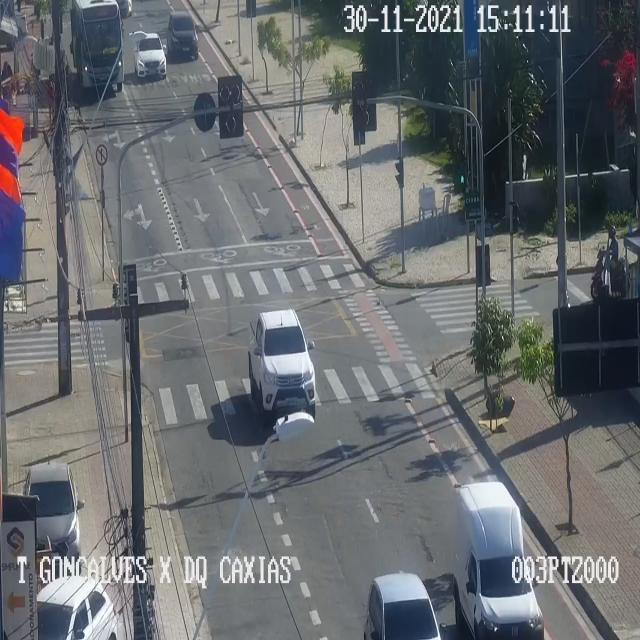Bus: (70, 1, 124, 91)
Car: (453, 481, 543, 639), (247, 307, 315, 417), (24, 464, 80, 573), (36, 575, 116, 639), (364, 573, 441, 639), (166, 12, 198, 58), (134, 32, 166, 77)
Motorcycle: (590, 225, 630, 297)
